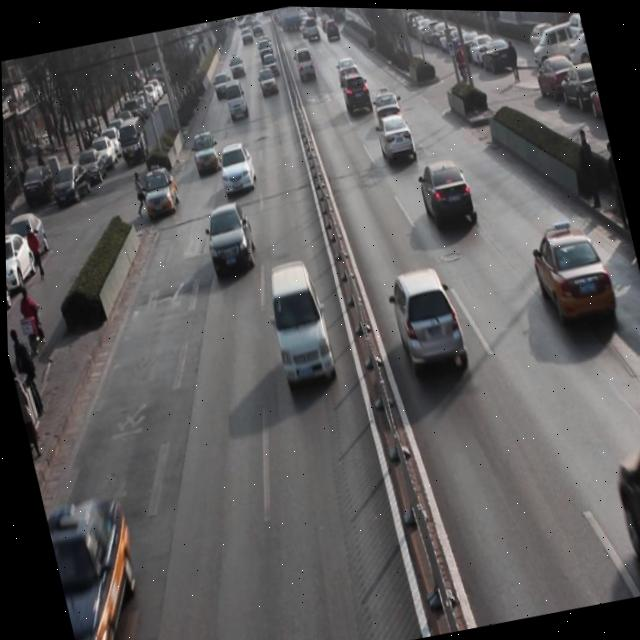car: (43, 499, 156, 640), (524, 213, 622, 336), (383, 256, 472, 381), (414, 153, 481, 237), (200, 198, 259, 275), (373, 110, 419, 170), (135, 163, 183, 220), (214, 140, 257, 195), (338, 65, 373, 114), (189, 127, 223, 174), (369, 81, 403, 127)
truck: (261, 256, 337, 385), (222, 80, 249, 121)
